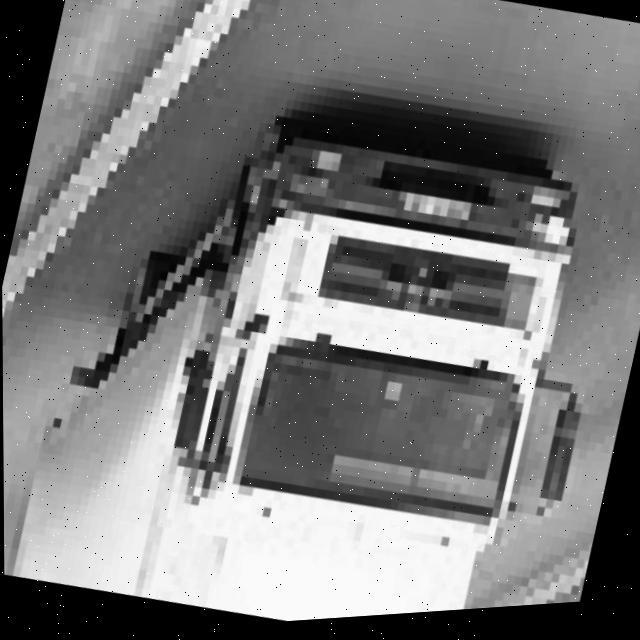truck: (8, 55, 636, 640)
